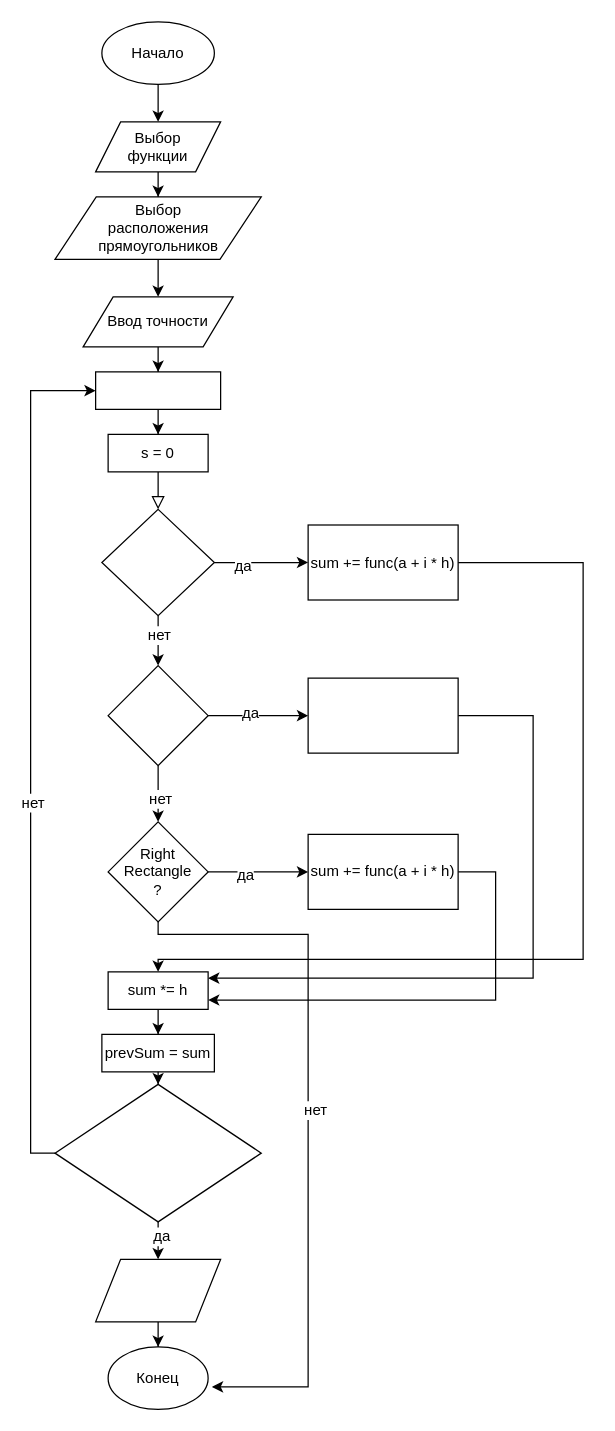
Some shapes in this 615 by 1431 pixel diagram are drawn without their labels. The shapes that lost their labels are listed below. From the top down, each one's centre as x and y in pixels, then its label:
At point (157, 390): "h = (b-a) / n".
At point (157, 562): "Left Rectangle ?".
At point (157, 715): "Middle Rectangle ?".
At point (382, 715): "sum += func(a + i * h - h/2)".
At point (157, 1152): "accuracy < | (sum - prevSum)| / 3".
At point (157, 1290): "Вывод результата".
